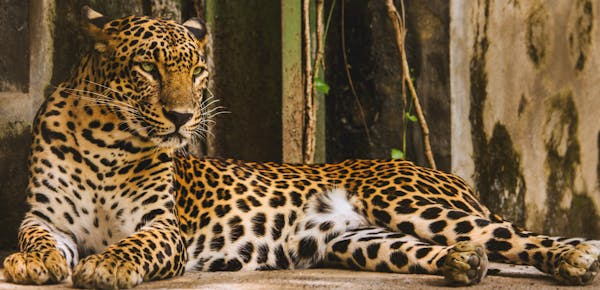Leopard: (3, 5, 600, 290)
